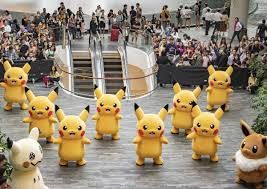pikachu: (189, 99, 229, 165), (52, 104, 90, 167), (133, 101, 168, 169), (92, 83, 126, 143), (168, 77, 203, 135), (24, 83, 57, 141), (1, 56, 30, 113), (205, 64, 231, 111)
